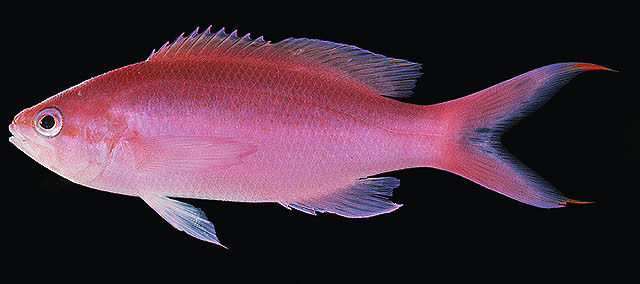fish: (7, 26, 618, 250)
